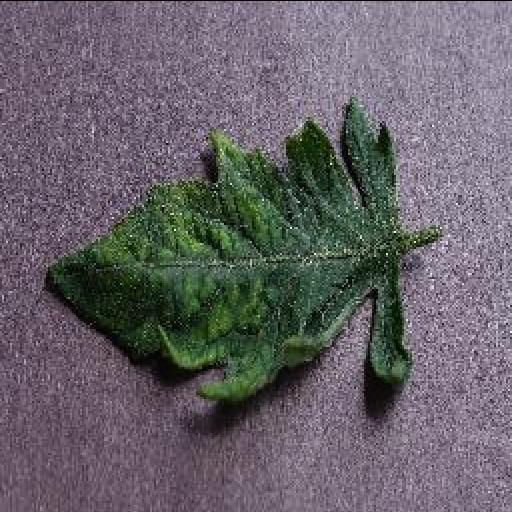Mosaic Virus: (42, 100, 416, 406)
